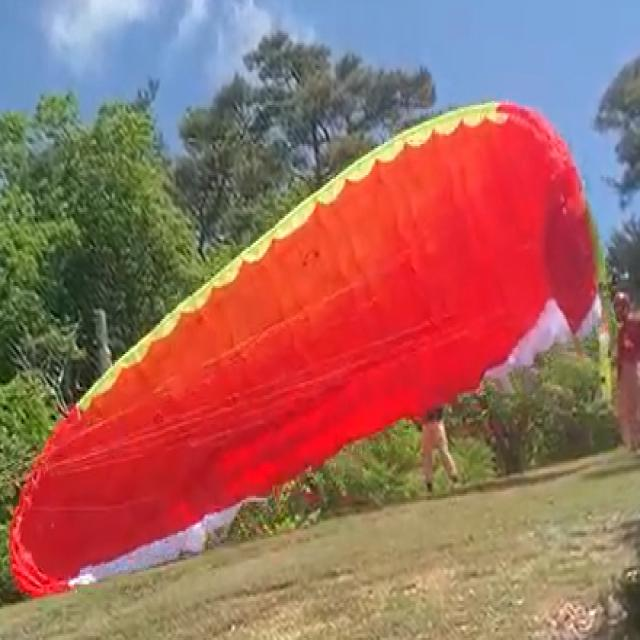paraglider: (7, 97, 604, 599)
